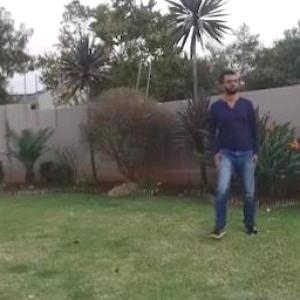follow: (200, 53, 270, 261)
